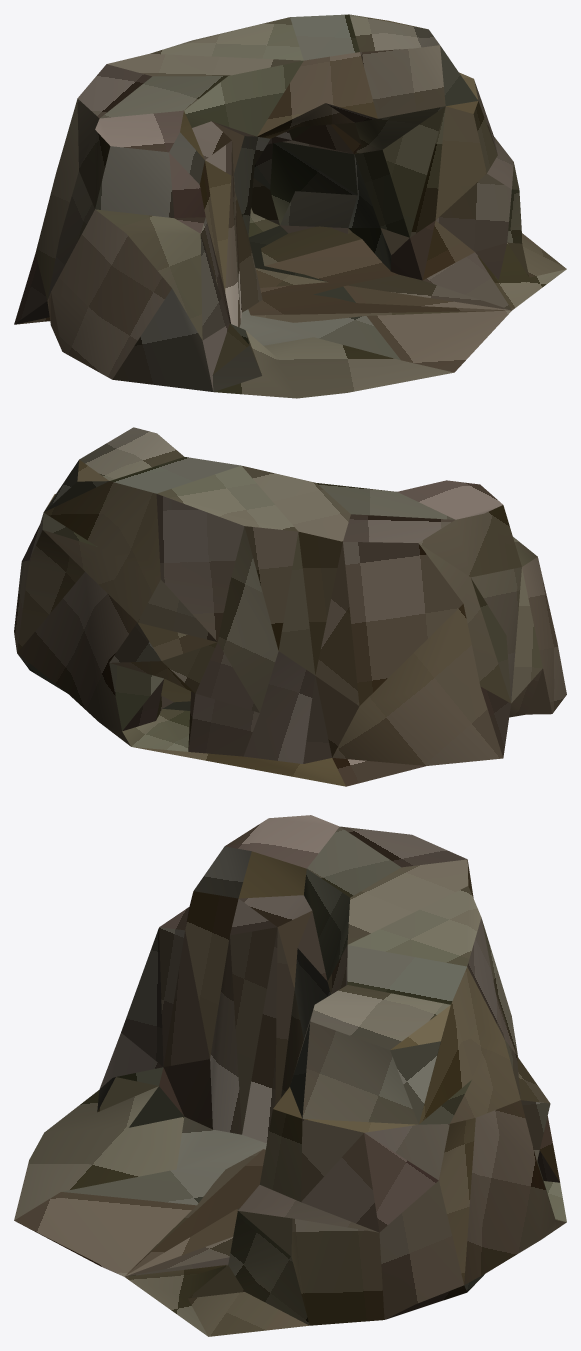
Rendered from waterfall-cave.collision.glb.
The picture shows the model from 3 angles, top to bottom: view 1: azimuth 30°, elevation 25°; view 2: azimuth 150°, elevation 25°; view 3: azimuth 270°, elevation 25°; orthographic projection. The views are drawn at different scales.
Visible parts, largest first — view 1: output_unwrapped; view 2: output_unwrapped; view 3: output_unwrapped.
Part boxes in pixels (box(x1,y1,x2,y2)): output_unwrapped: box(14, 14, 566, 398); output_unwrapped: box(14, 427, 566, 786); output_unwrapped: box(14, 815, 566, 1336).
Bounding box in the file's own units: 1.78 × 0.773 × 1.43.
1 material, 1 textured.
